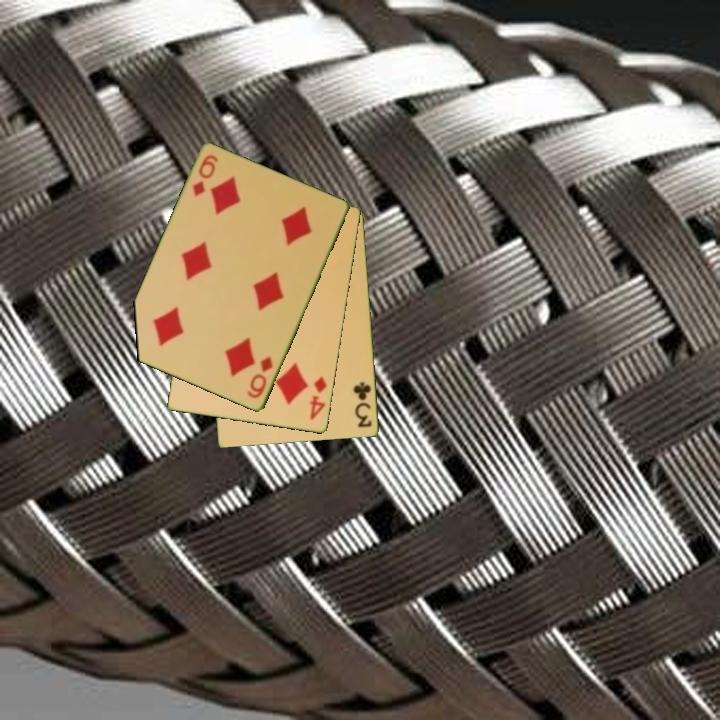3c: (350, 379, 375, 431)
4d: (306, 373, 330, 423)
6d: (244, 353, 276, 402), (189, 152, 221, 200)
